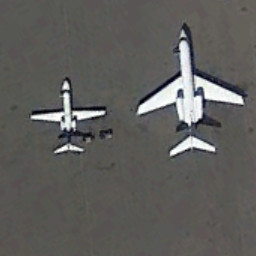Airplane: (124, 20, 252, 167), (21, 61, 113, 162)
